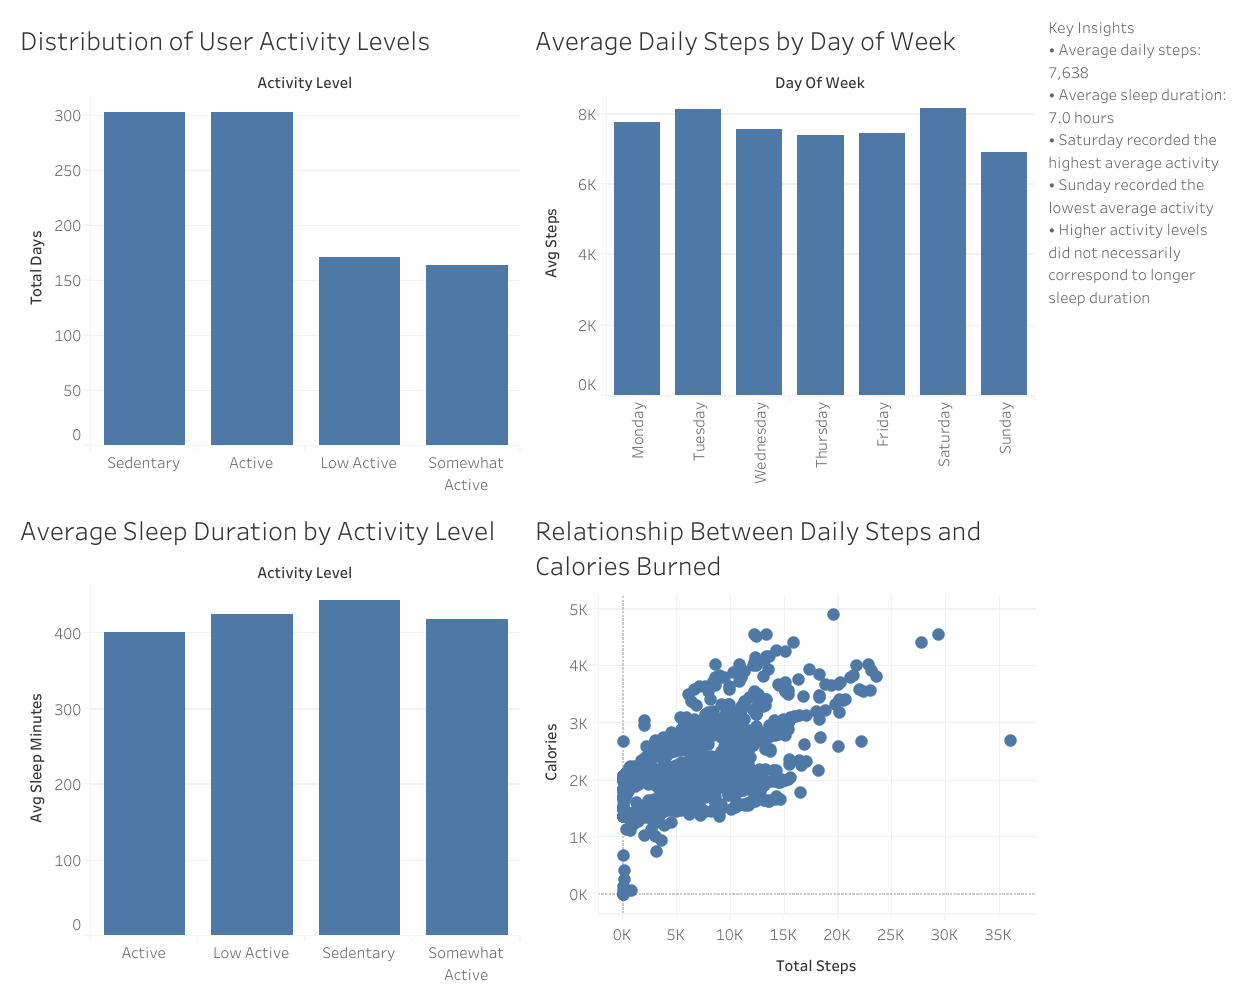

What the dashboard file says about the page in this screenshot:
{"tool":"tableau","page":{"name":"Bellabeat Fitness Tracker Analysis","canvas":[1000,800],"ordinal":0},"visuals":[{"type":"worksheet","title":"Distribution of User Activity Levels","mark":"Automatic","rows":["total_days"],"cols":["activity_level"],"box":[8,8,412,392]},{"type":"worksheet","title":"Average Daily Steps by Day of Week","mark":"Automatic","rows":["avg_steps"],"cols":["day_of_week"],"box":[420,8,412,392]},{"type":"text","box":[832,8,160,242]},{"type":"worksheet","title":"Average Sleep Duration by Activity Level","mark":"Automatic","rows":["avg_sleep_minutes"],"cols":["activity_level"],"box":[8,400,412,392]},{"type":"worksheet","title":"Relationship Between Daily Steps and Calories Burned","mark":"Circle","rows":["Calories"],"cols":["TotalSteps"],"box":[420,400,412,392]}]}

Visuals, with their boxes in screenshot pixels (x1, y1, x2, y2), scaled from the page's 1000x800 canvas onto the 1249x999 screenshot:
"Distribution of User Activity Levels" worksheet: crop(10, 10, 525, 500)
"Average Daily Steps by Day of Week" worksheet: crop(525, 10, 1039, 500)
text: crop(1039, 10, 1239, 312)
"Average Sleep Duration by Activity Level" worksheet: crop(10, 500, 525, 989)
"Relationship Between Daily Steps and Calories Burned" worksheet (Circle marks): crop(525, 500, 1039, 989)
